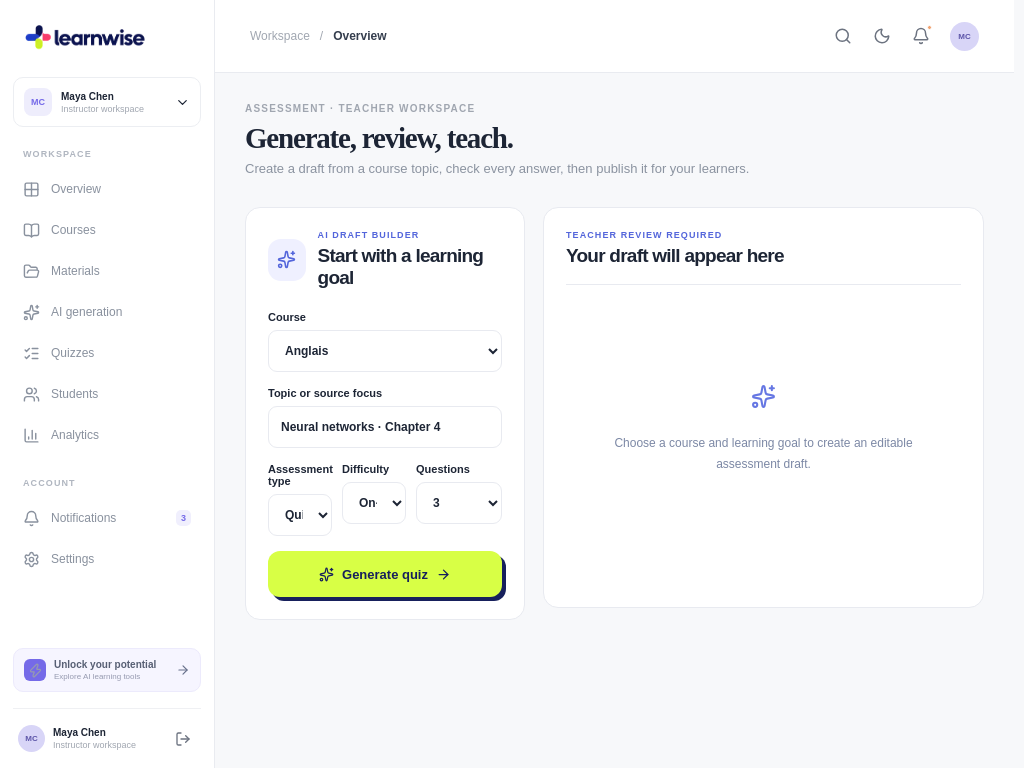
teacher assessment studio with the real backend › sends the generation request in the format the backend expects
Click the button "Generate quiz". click: (385, 574)
box: [268, 551, 502, 597]
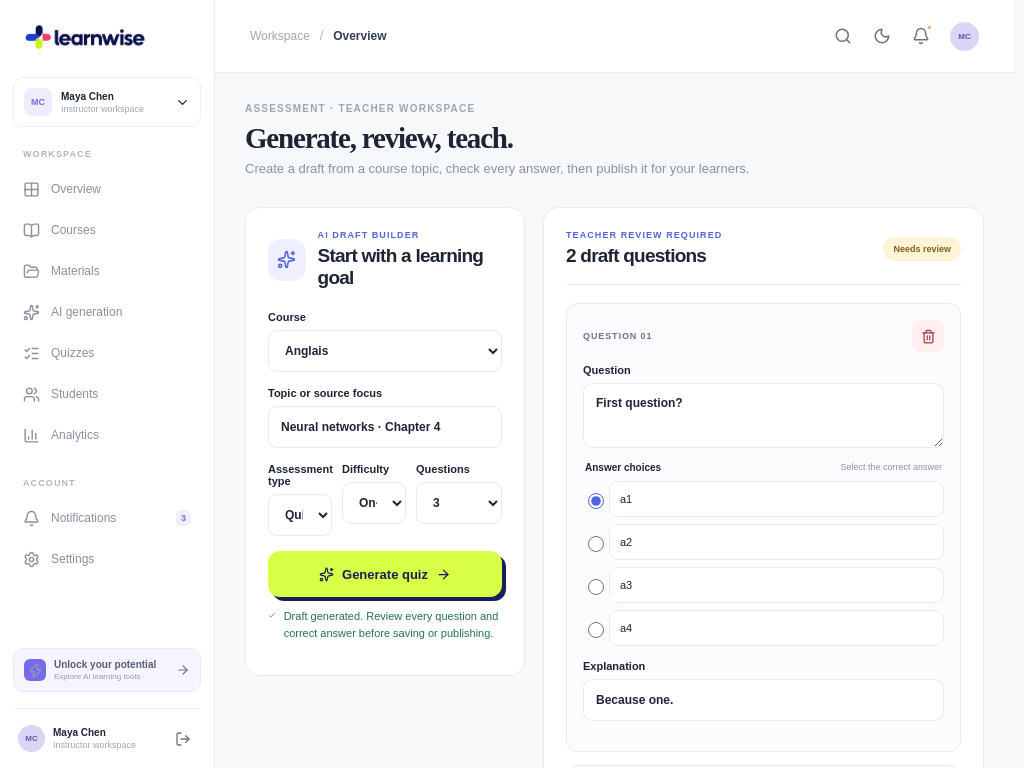
Expected: the heading "2 draft questions" is shown, [566, 245, 722, 267]
Expected: the text box labelled "Question" holds "First question?", [583, 383, 944, 448]
